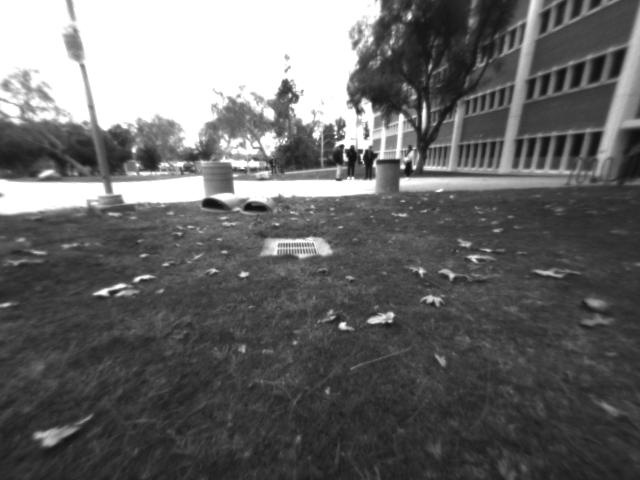trashcan: (198, 160, 239, 202), (373, 159, 398, 201)
